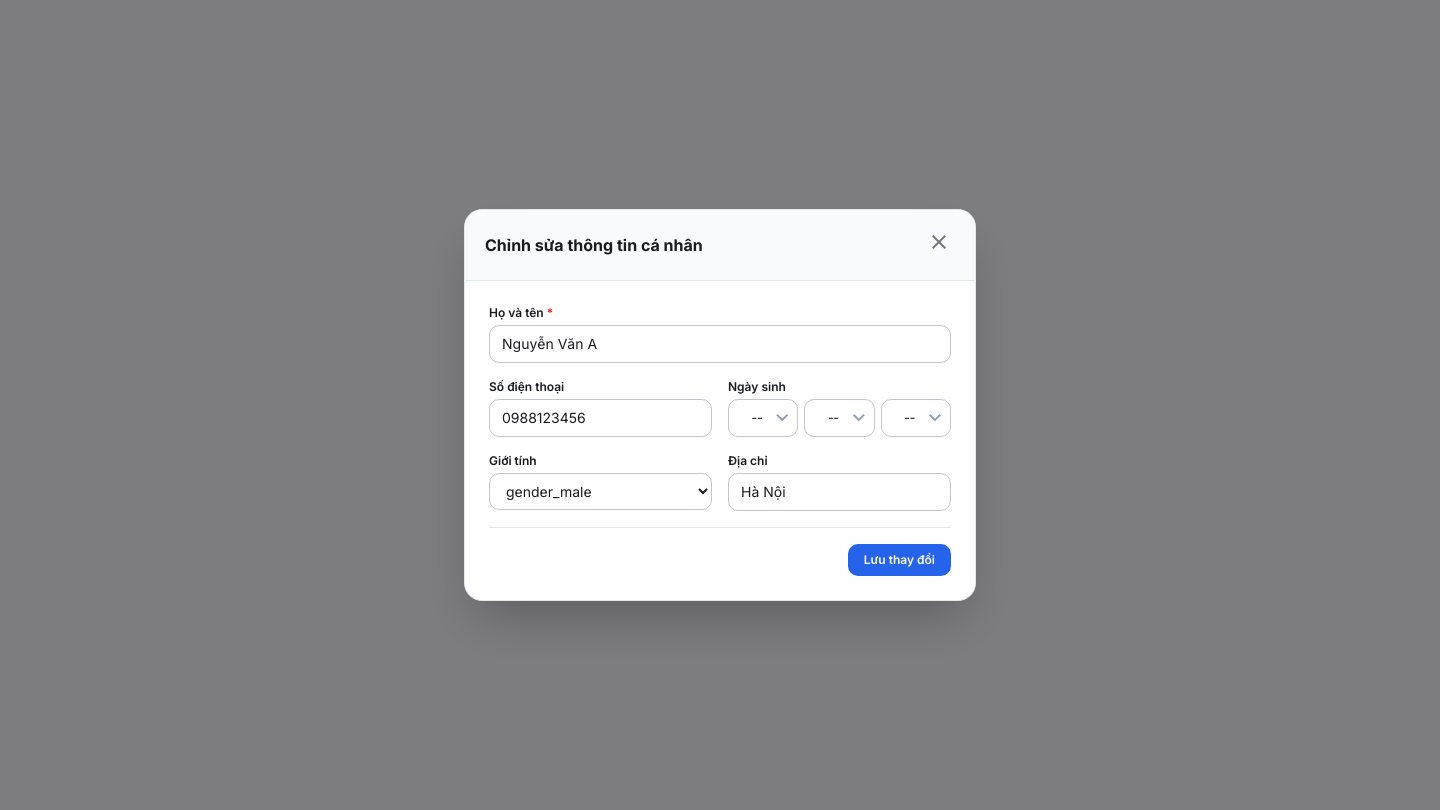
Test: EditProfileModal — Cancel button removal, backdrop lock, phone & DOB validation › rejects submitting and shows error when date of birth is partially filled
This screenshot has width=1440, height=810.
Select Day but leave Month and Year empty
Select "15" in the dropdown titled "Ngày" at [763, 418], box top-left (728, 399), bottom-right (798, 437)
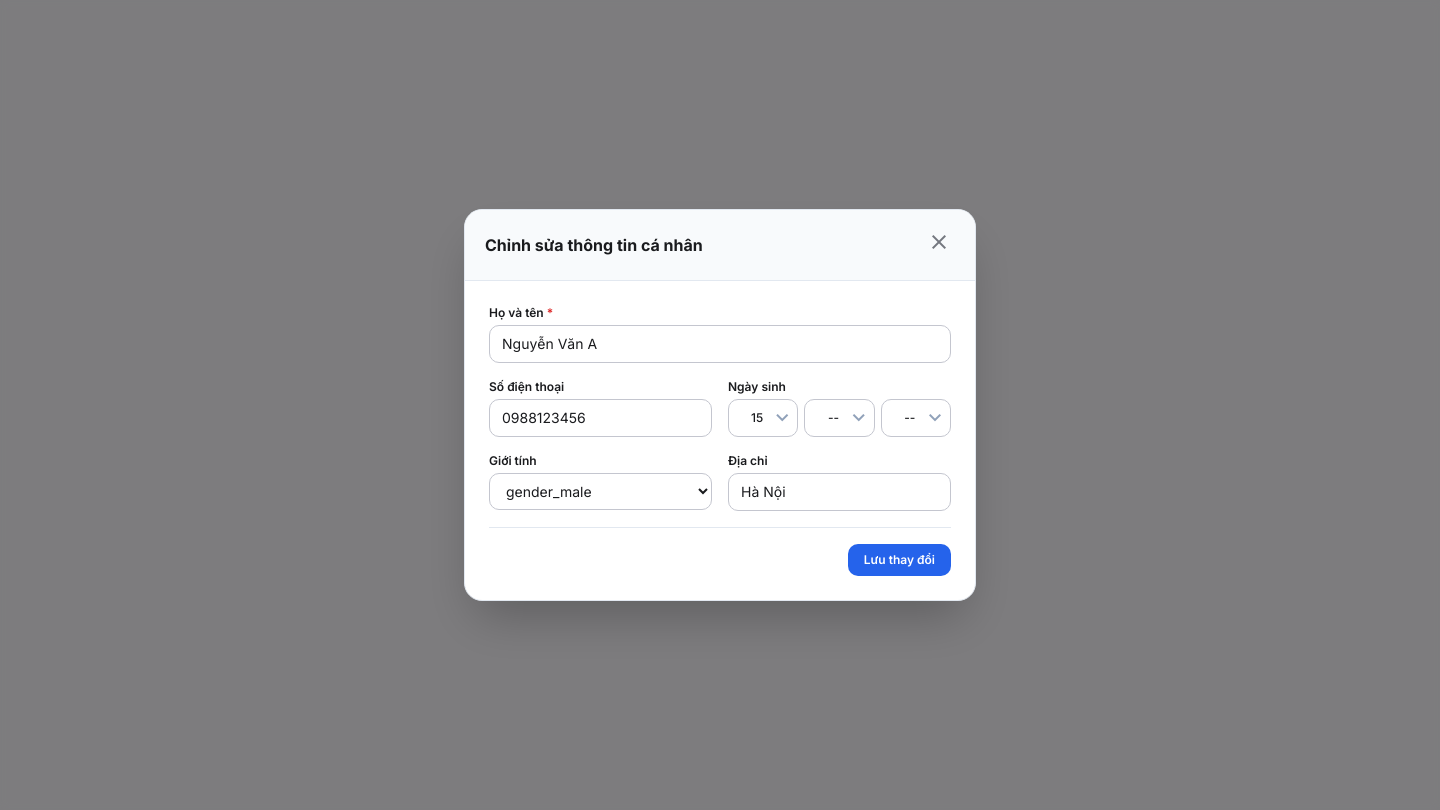
Click the button "Lưu thay đổi" at [899, 560], box top-left (848, 544), bottom-right (951, 576)
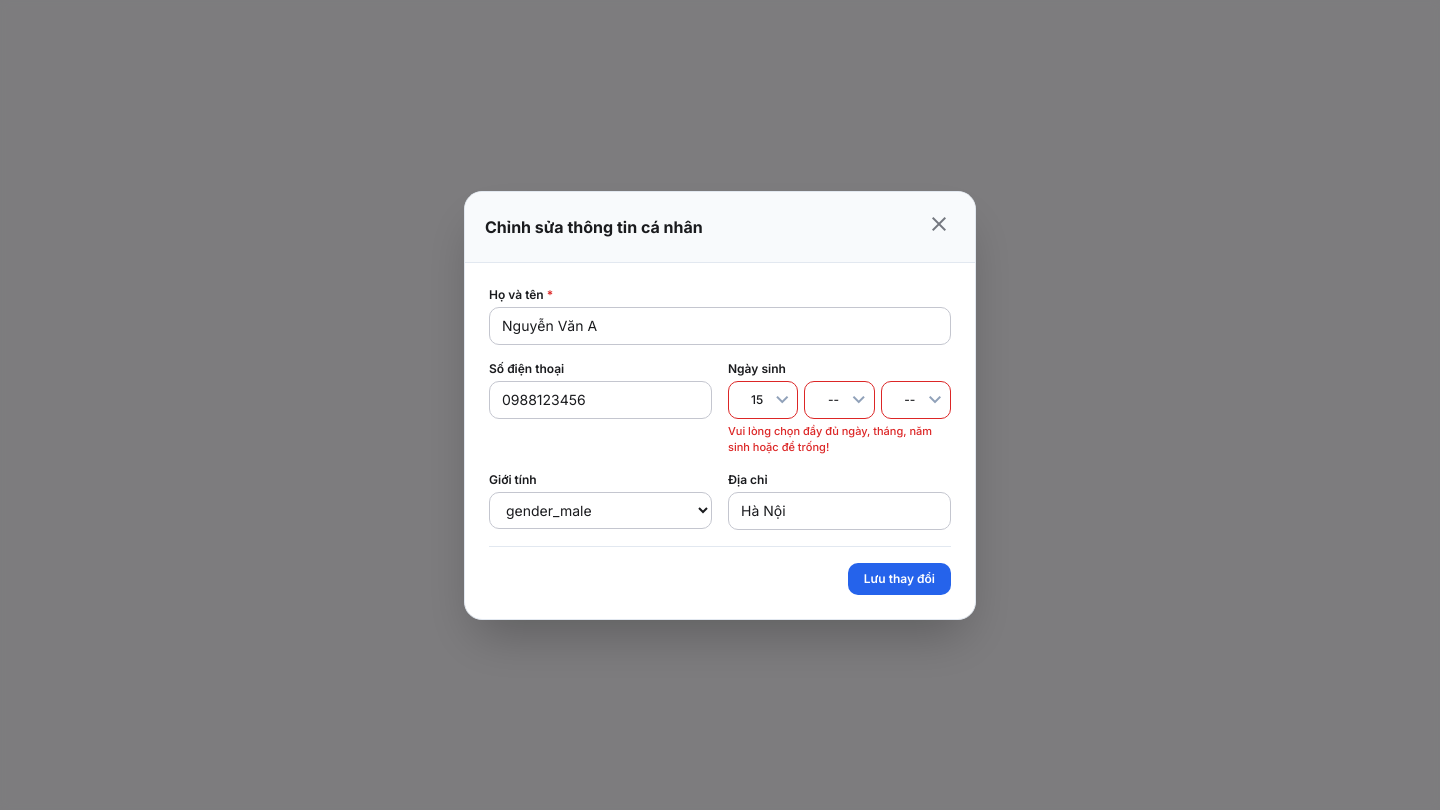
Now the text "Vui lòng chọn đầy đủ ngày, tháng, năm sinh hoặc để trống!" is shown, box top-left (728, 422), bottom-right (951, 456)
